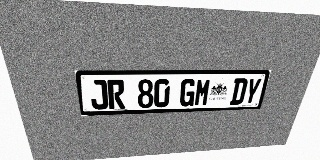0: (154, 79, 170, 108)
8: (138, 79, 154, 108)
D: (229, 78, 249, 105)
G: (179, 79, 197, 107)
J: (89, 80, 109, 110)
M: (194, 78, 212, 106)
R: (107, 79, 125, 109)
Y: (243, 78, 262, 104)
